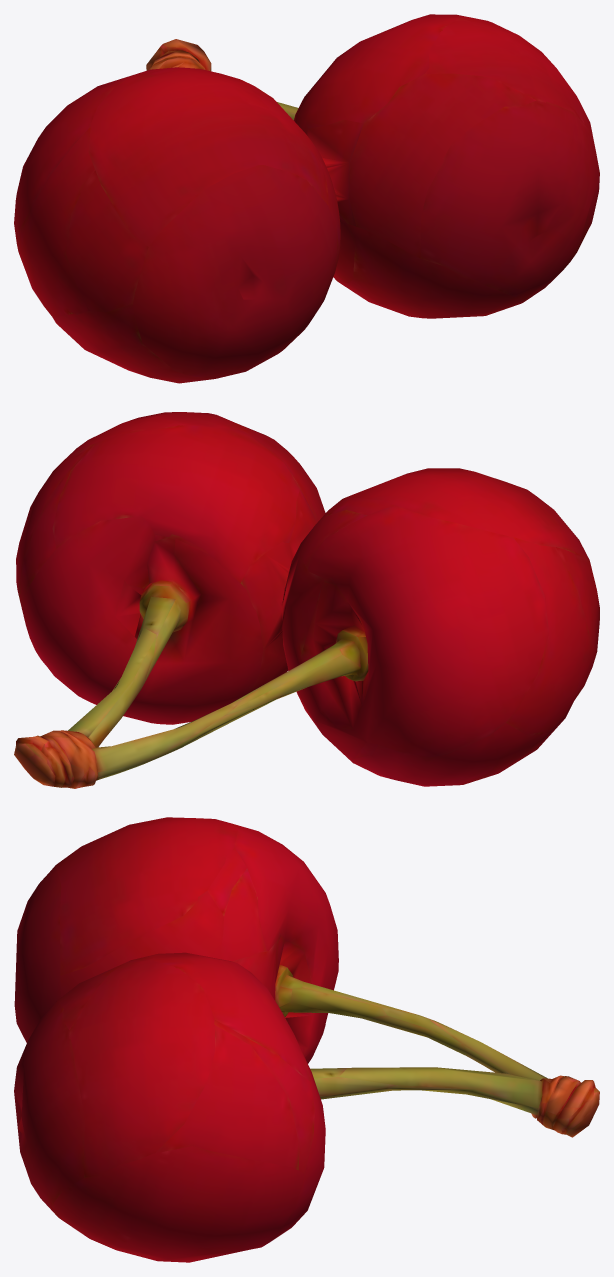
3 renders of one model, top to bottom at view 1: azimuth 30°, elevation 25°; view 2: azimuth 150°, elevation 25°; view 3: azimuth 270°, elevation 25°, orthographic.
Visible parts, largest first — view 1: material; view 2: material; view 3: material.
Part boxes in pixels (x1=…): material: x1=14, y1=14, x2=599, y2=383; material: x1=14, y1=412, x2=599, y2=788; material: x1=14, y1=817, x2=599, y2=1262.
Size of the model in its own units: 1 by 0.5159 by 0.9534.
Materials: 1 (1 with a texture image).
